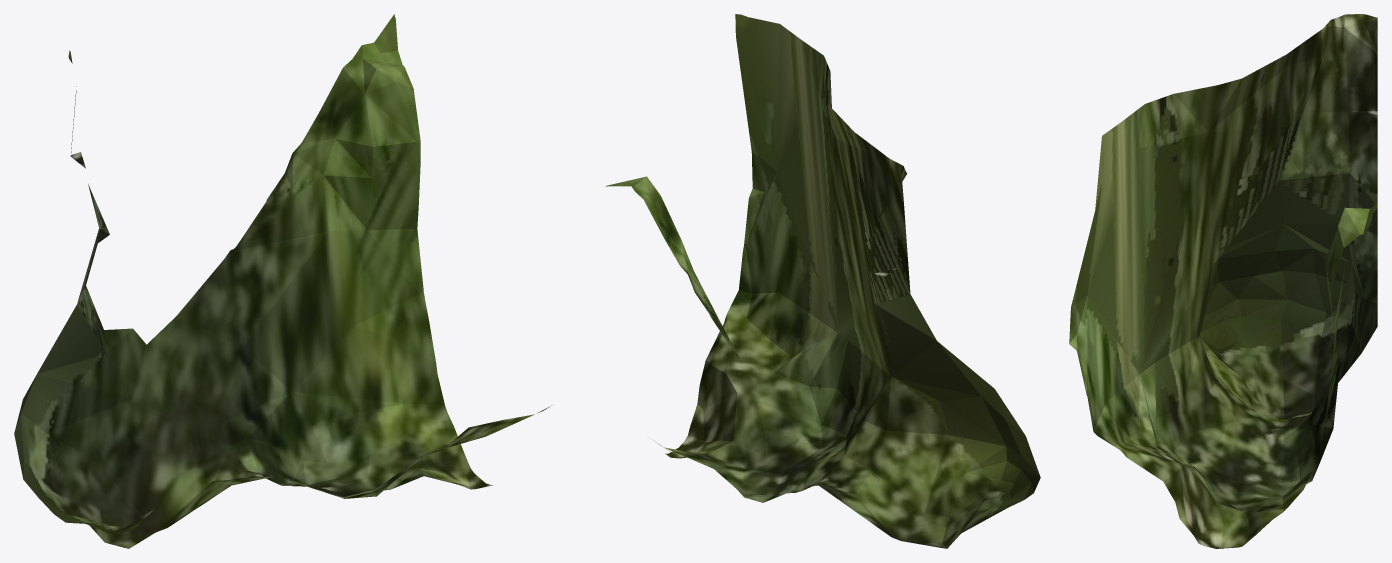
The picture shows the model from 3 angles, left to right: view 1: azimuth 30°, elevation 25°; view 2: azimuth 150°, elevation 25°; view 3: azimuth 270°, elevation 25°; orthographic projection. The views are drawn at different scales.
Bounding box in the file's own units: 2.13 × 2.17 × 1.53.
2 materials, 2 textured.
